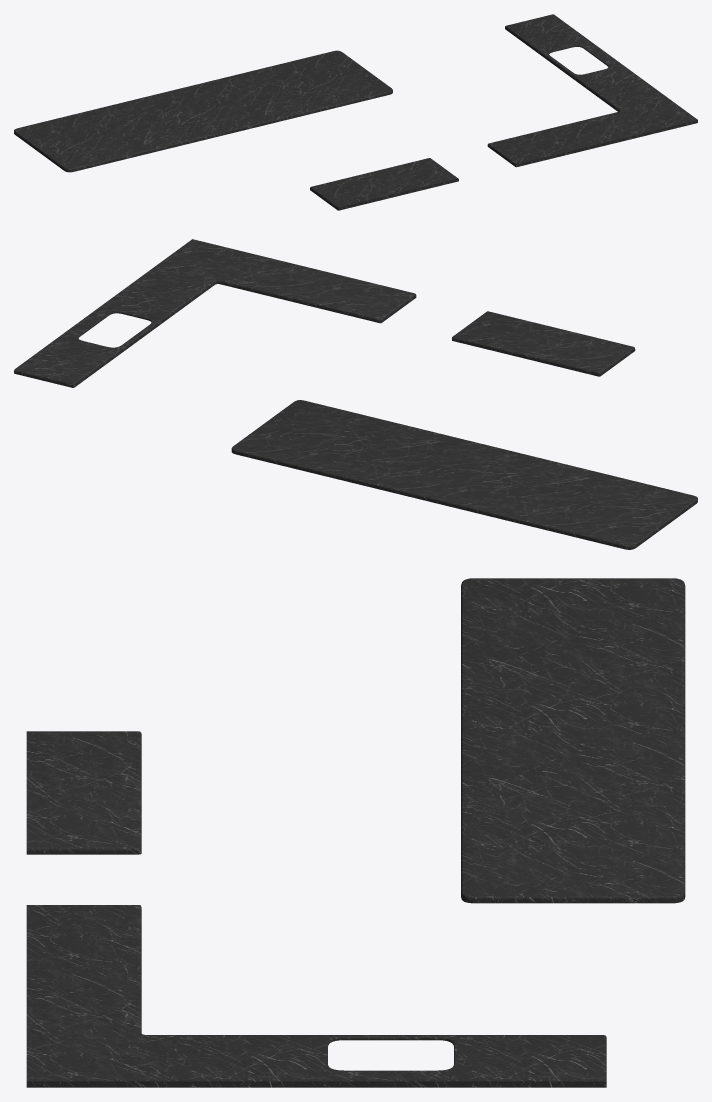
The model's file is 1860_kitchen_Countertops_QuartzEtNoir.gltf.
3 views of the same model, one above another, from view 1: azimuth 30°, elevation 25°; view 2: azimuth 150°, elevation 25°; view 3: azimuth 270°, elevation 25° (orthographic). The views are drawn at different scales.
Parts seen in each view (by area): view 1: Line18738; view 2: Line18738; view 3: Line18738.
Boxes of the visible parts, x1=… form: Line18738: x1=14, y1=14, x2=697, y2=210; Line18738: x1=14, y1=239, x2=697, y2=549; Line18738: x1=26, y1=578, x2=685, y2=1087.
Size of the model in its own units: 8.6 by 0.09 by 4.7.
1 material, 1 textured.
